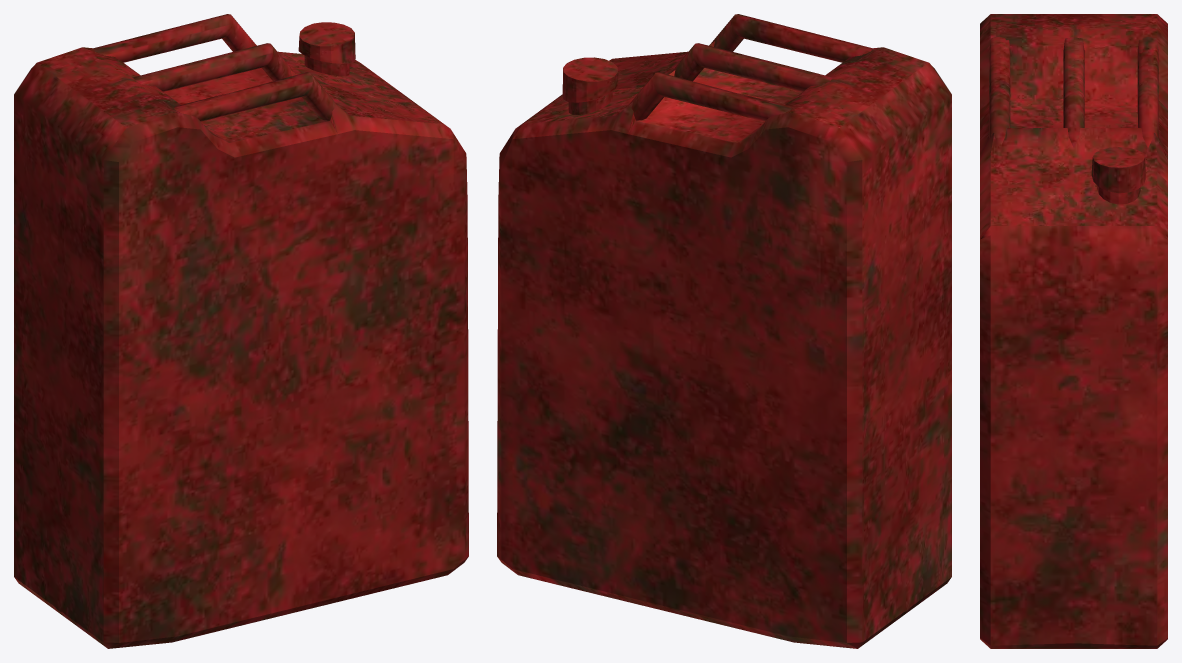
File: s_gasolina.glb
The picture shows the model from 3 angles, left to right: view 1: azimuth 30°, elevation 25°; view 2: azimuth 150°, elevation 25°; view 3: azimuth 270°, elevation 25°; orthographic projection. The views are drawn at different scales.
Visible parts, largest first — view 1: defaultMaterial; view 2: defaultMaterial; view 3: defaultMaterial.
Boxes of the visible parts, left/top/right/bottom form: defaultMaterial: left=14, top=14, right=468, bottom=648; defaultMaterial: left=497, top=14, right=951, bottom=648; defaultMaterial: left=980, top=14, right=1167, bottom=648.
Size of the model in its own units: 0.3385 by 0.47 by 0.1619.
Materials: 1 (1 with a texture image).
